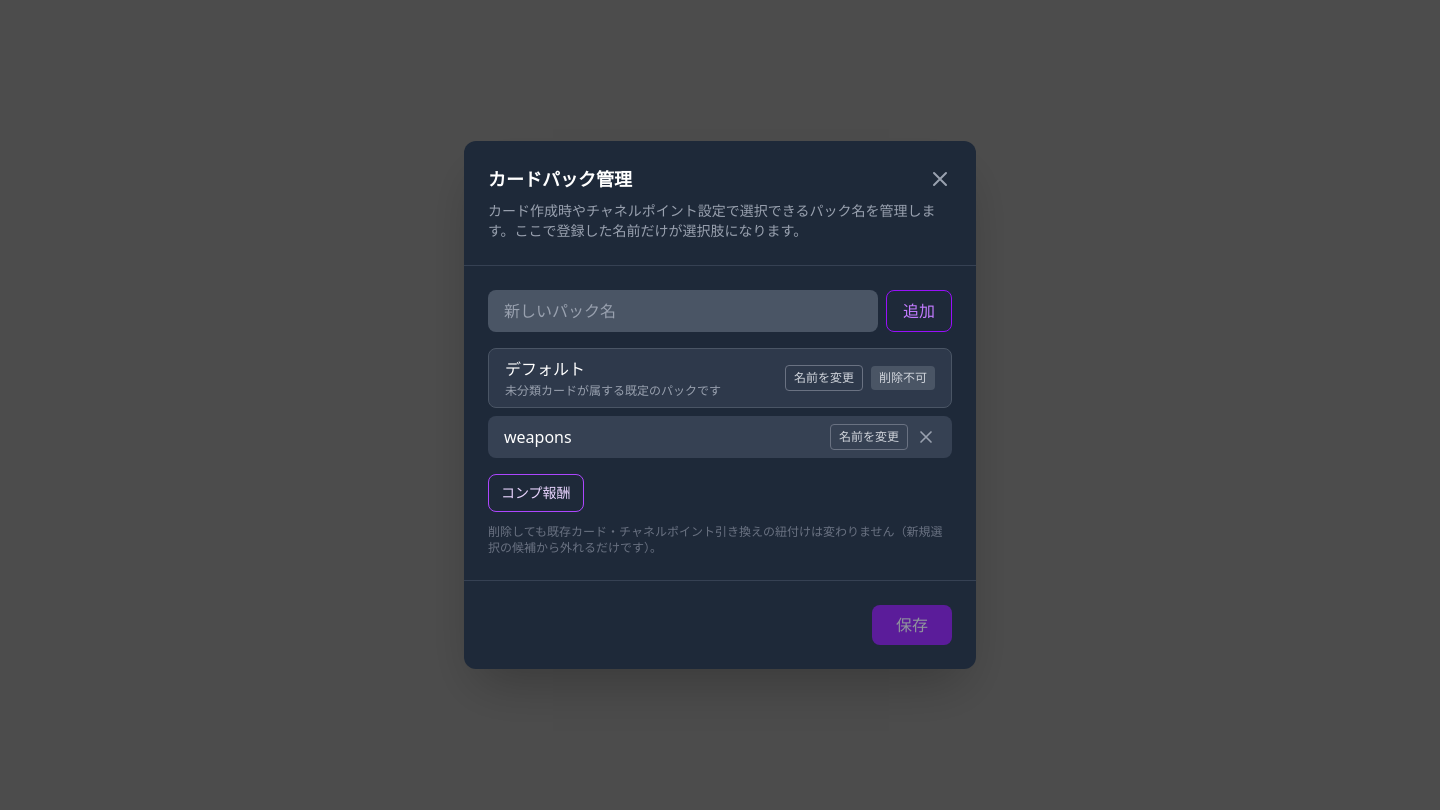
Test: CardPackModal maintenance integration › 事前disableをすり抜けて一括保存が503(maintenance)で拒否された場合、サーバーの案内文言を表示する
What coordinates should you click on to do the following:
click the button named "Remove weapons"
I would click on:
 (926, 437)
Its box is [916,427,936,447].
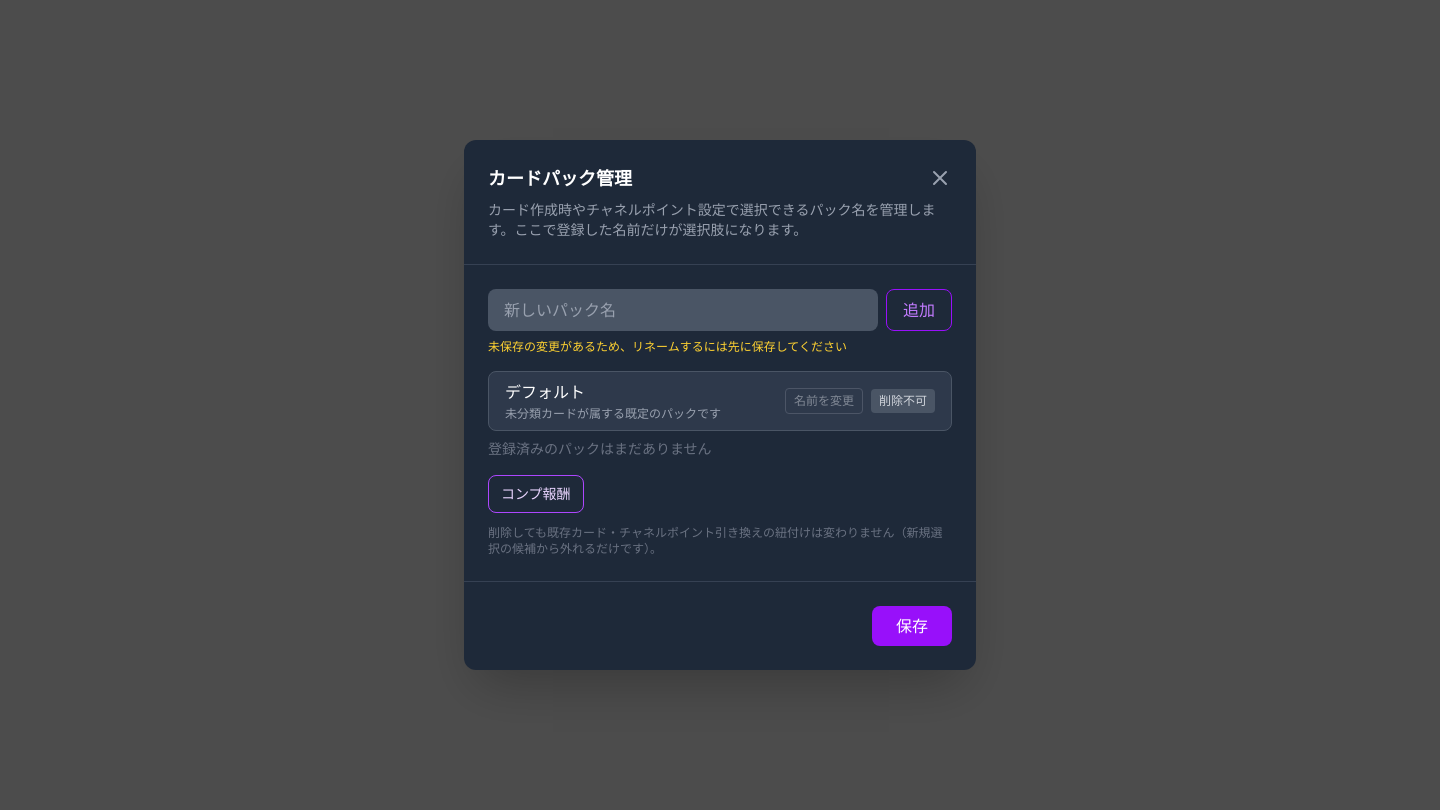
What coordinates should you click on to do the following:
click the button "保存"
I would click on:
 (912, 626)
Its box is [872,606,952,646].
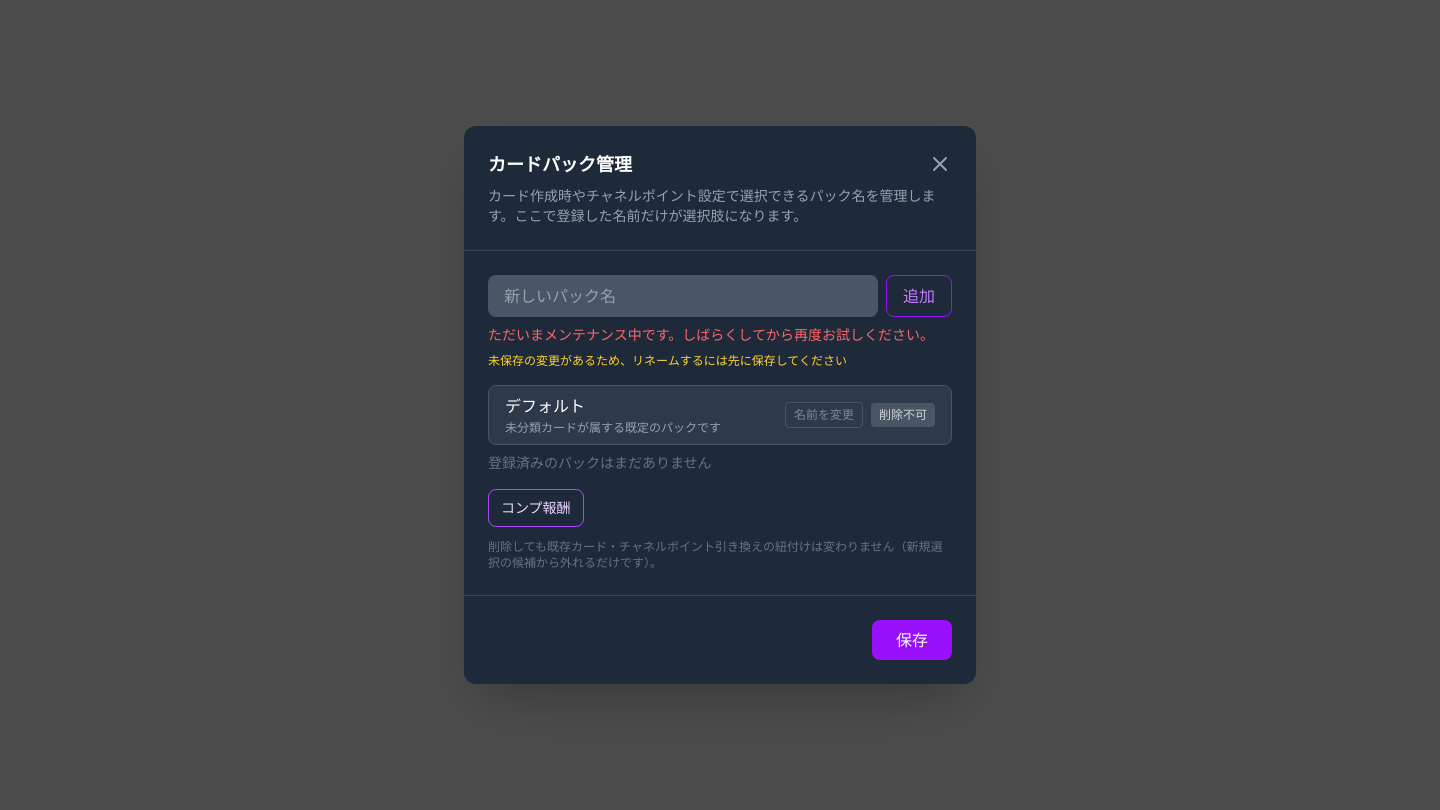
Expected: the text "ただいまメンテナンス中です。しばらくしてから再度お試しください。" is shown, [488,325,952,345]
